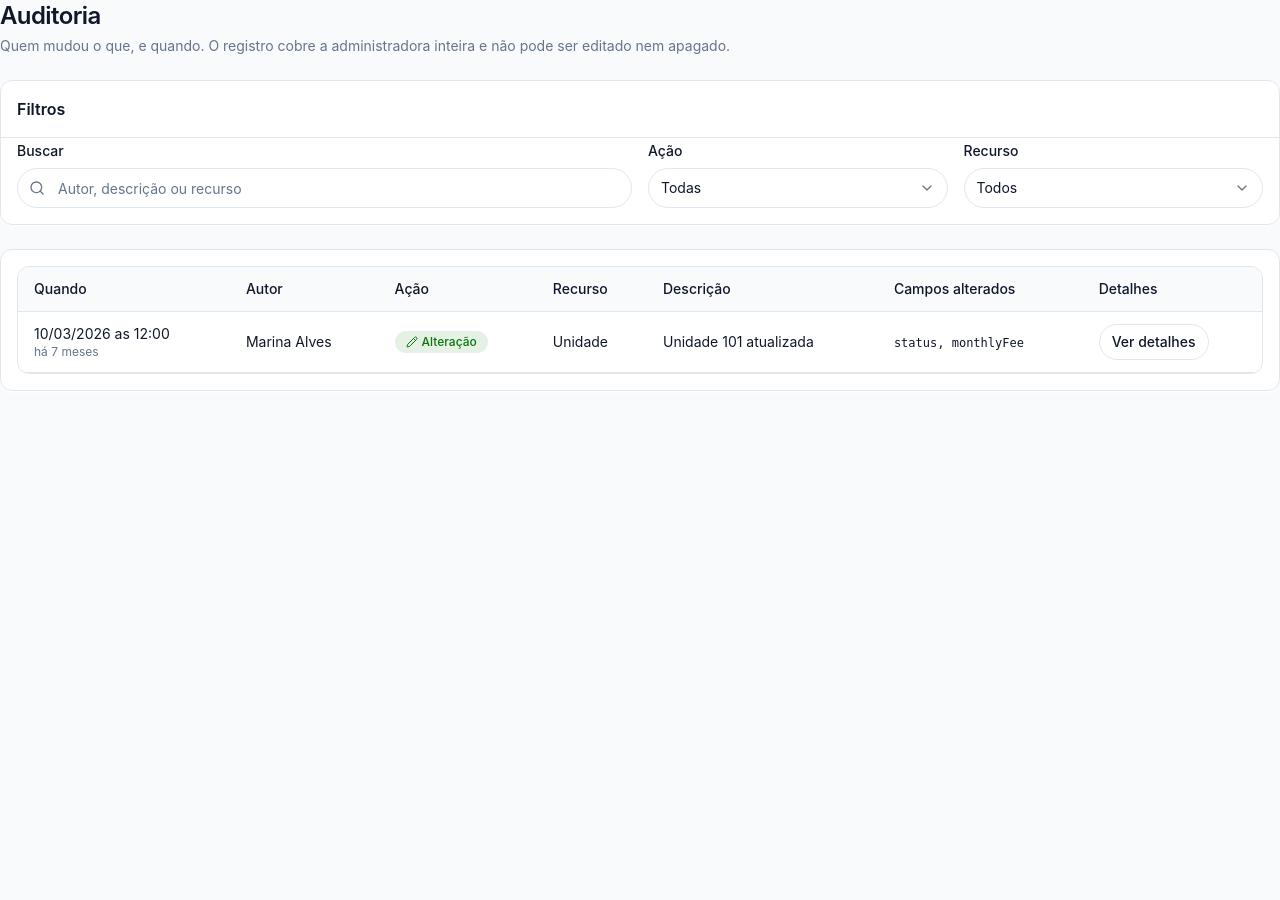
Histórico de um registro › abrir os detalhes consulta a rota por recurso e identificador
Step 1. Click the button with aria-label "Ver detalhes de Alteração em Unidade" → (1154,342), box x1=1099 y1=324 x2=1208 y2=360
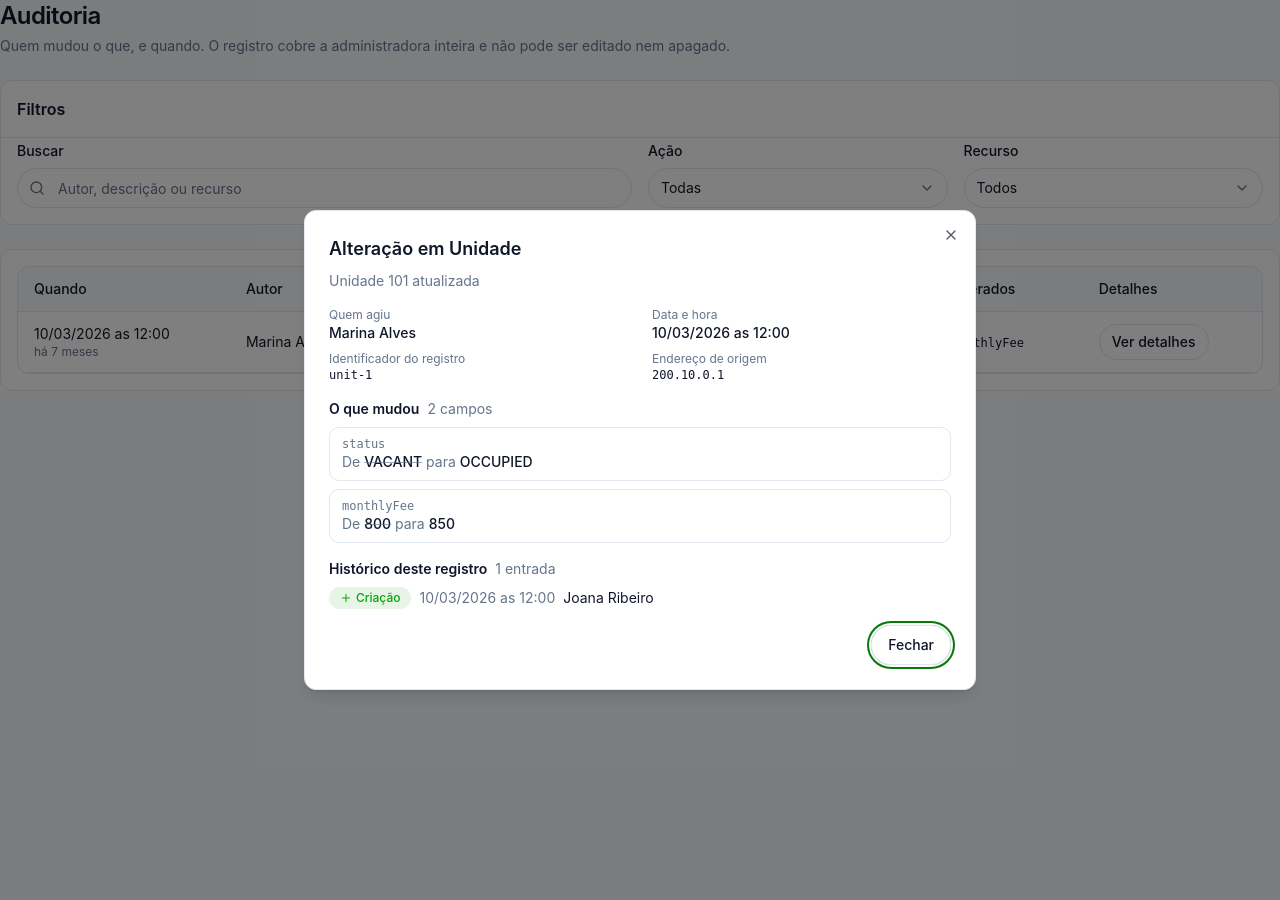
Expected: the text "Joana Ribeiro" is shown, x1=563 y1=588 x2=654 y2=608
Expected: the text "Marina Alves" is shown once, x1=329 y1=324 x2=416 y2=341
